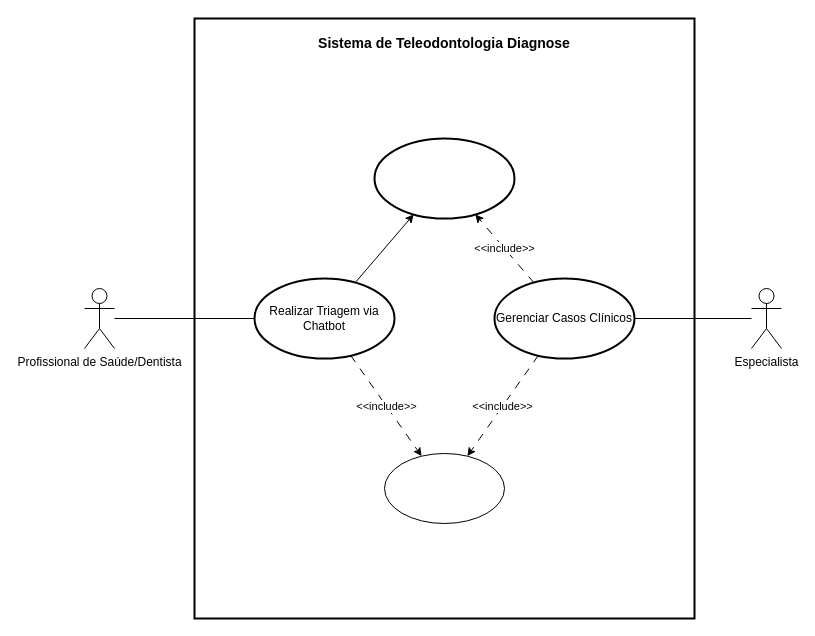
Some shapes in this 815 by 636 pixel diagram are drawn without their labels. The shapes that lost their labels are listed below. From the top down, each one's centre as x and y in pixels, then its label:
At point 444,178: "Analisar Dados com IA".
At point 444,488: "Autenticar no Sistema".
